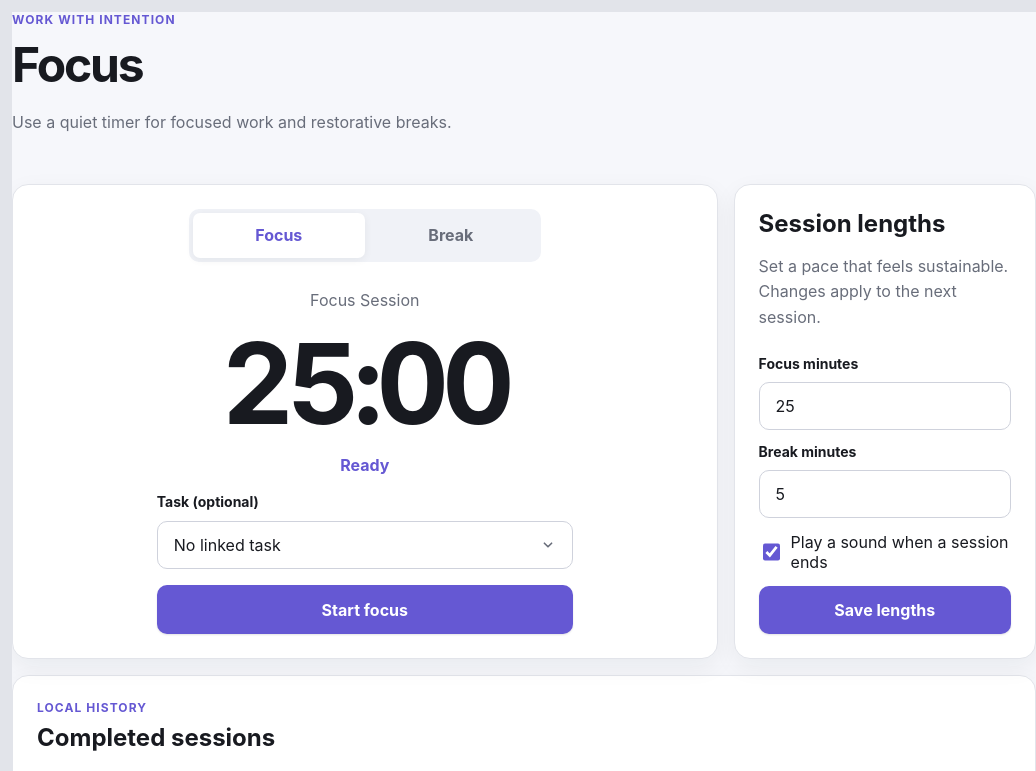
Test: FocusView › starts, pauses, resumes, and resets with accessible state text
The width and height of the screenshot is (1036, 771).
Click the button with class "app-button" showing "Start focus": (365, 610) [157,585,573,634]
Wait 2000 ms
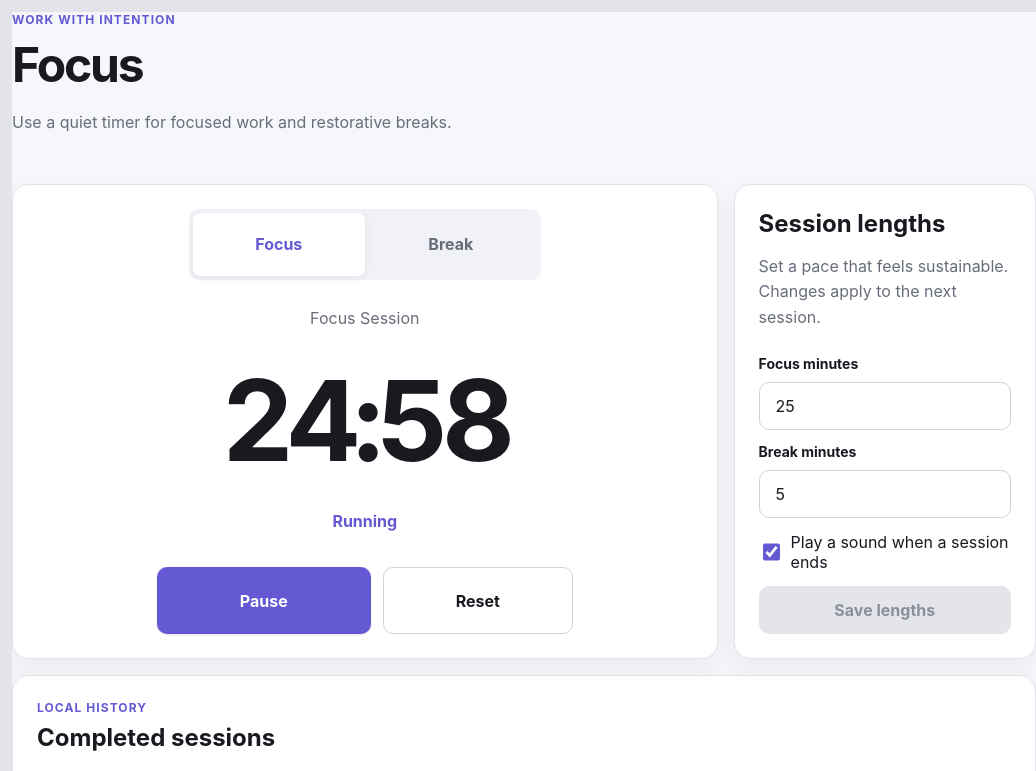
Check: the text "Running" is shown, box [332,511,397,531]
Check: the text "24:58" is shown, box [222,364,508,495]
Click the button with class "app-button" showing "Pause": (264, 601) [157,567,371,634]
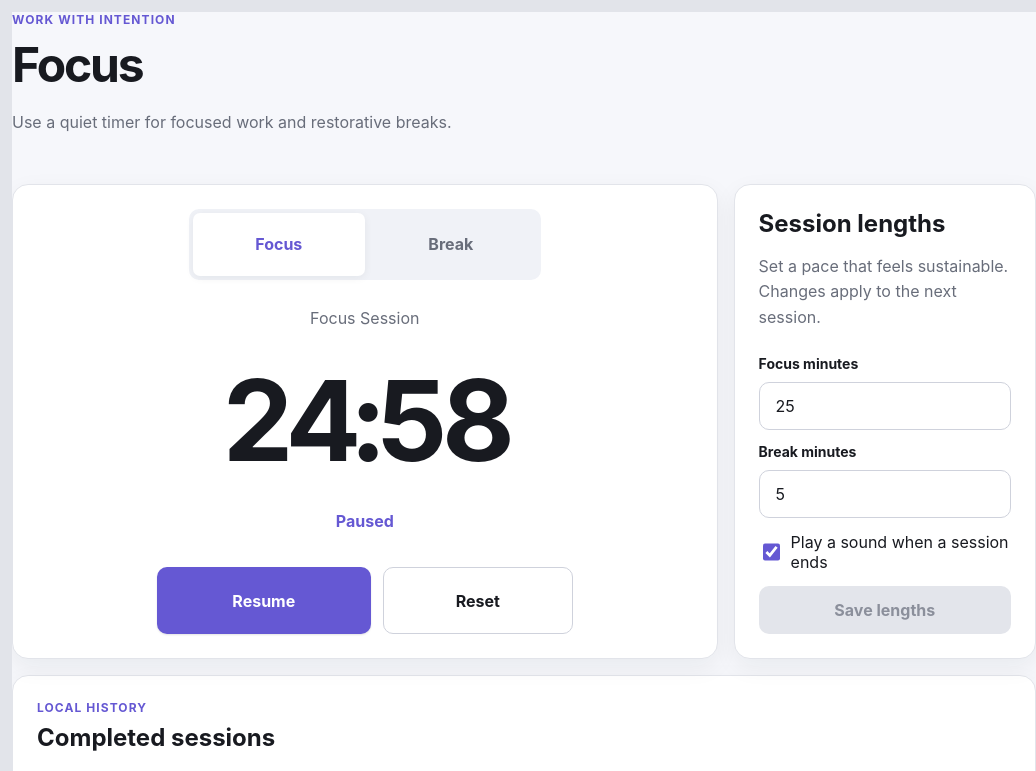
Check: the text "Paused" is shown, box [336,511,394,531]
Click the button with class "app-button" showing "Resume": (264, 601) [157,567,371,634]
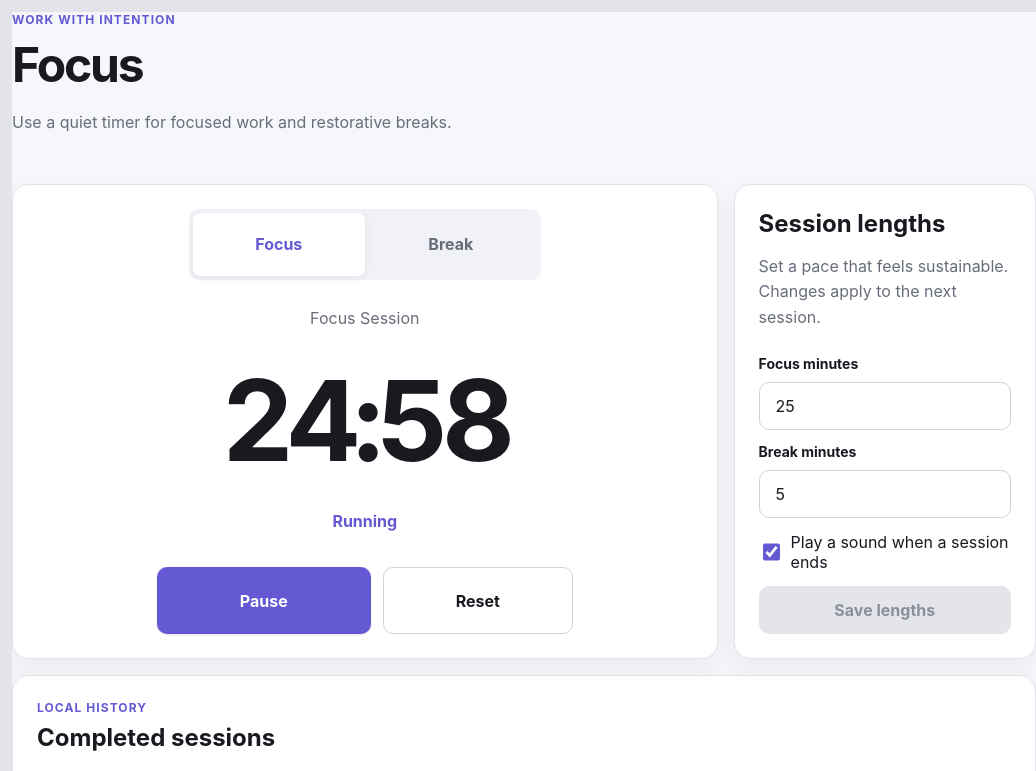
Check: the text "Running" is shown, box [332,511,397,531]
Click the button "Reset": (478, 601) [383,567,573,634]
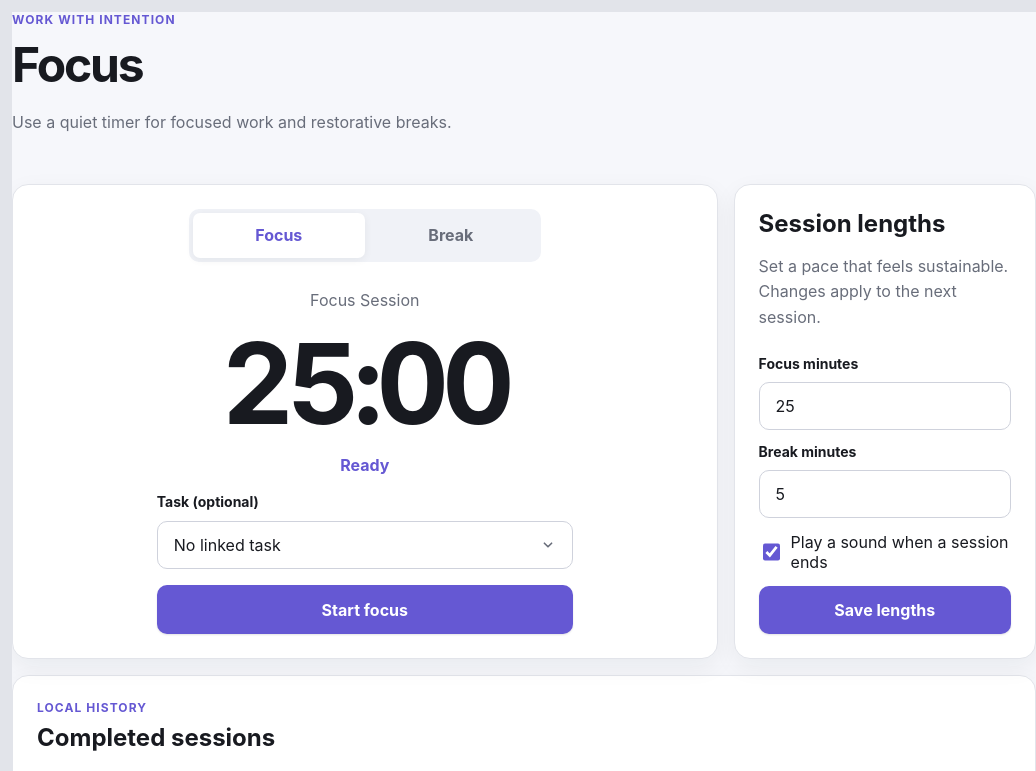
Check: the text "Ready" is shown, box [340,456,389,476]
